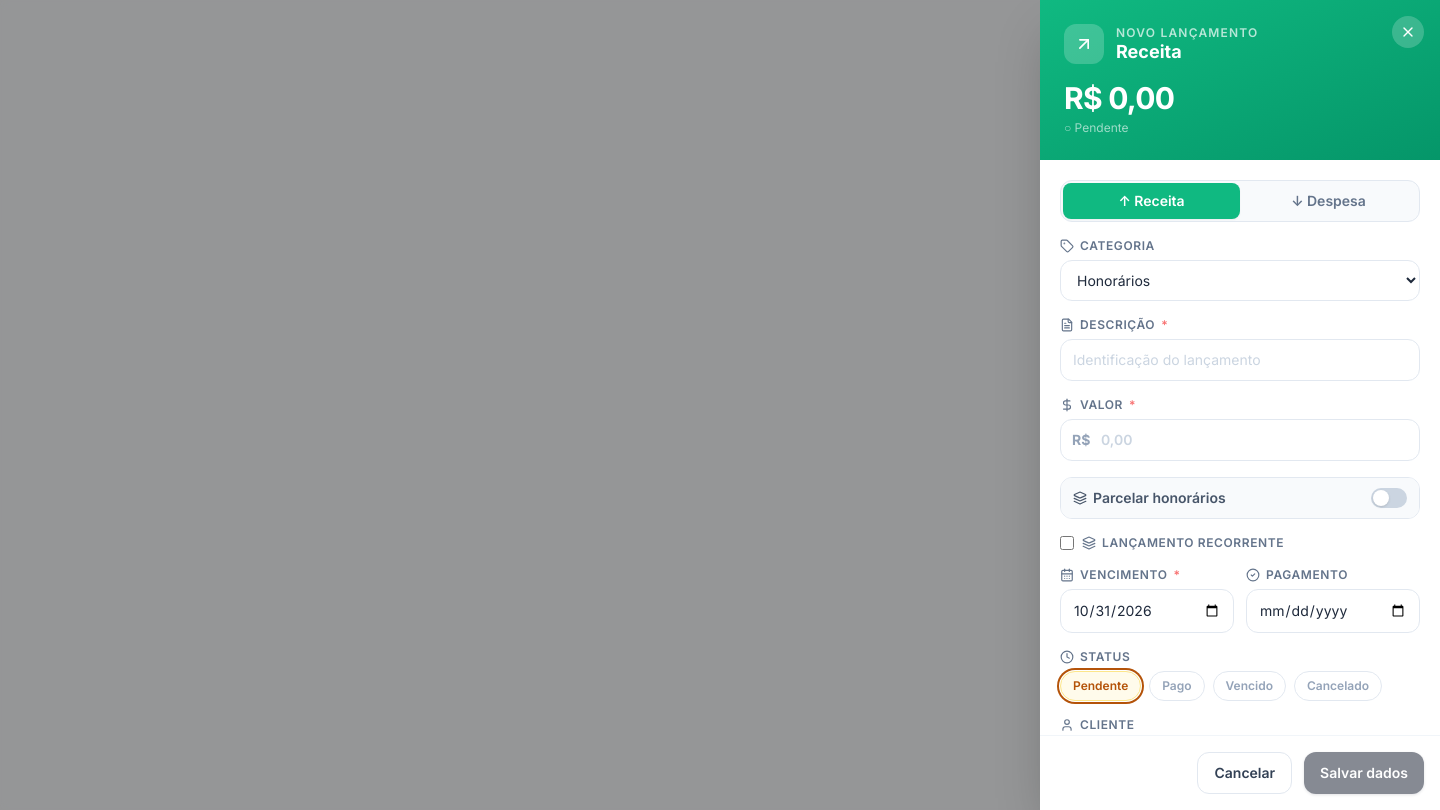
Test: FinancialDrawer — recorrência x parcelamento › ao ativar recorrência numa receita, parcelamento continua visível mas fica desabilitado
Step 1. Click the checkbox with test id "field-recurring" → click(1067, 543), box [1060, 536, 1074, 550]
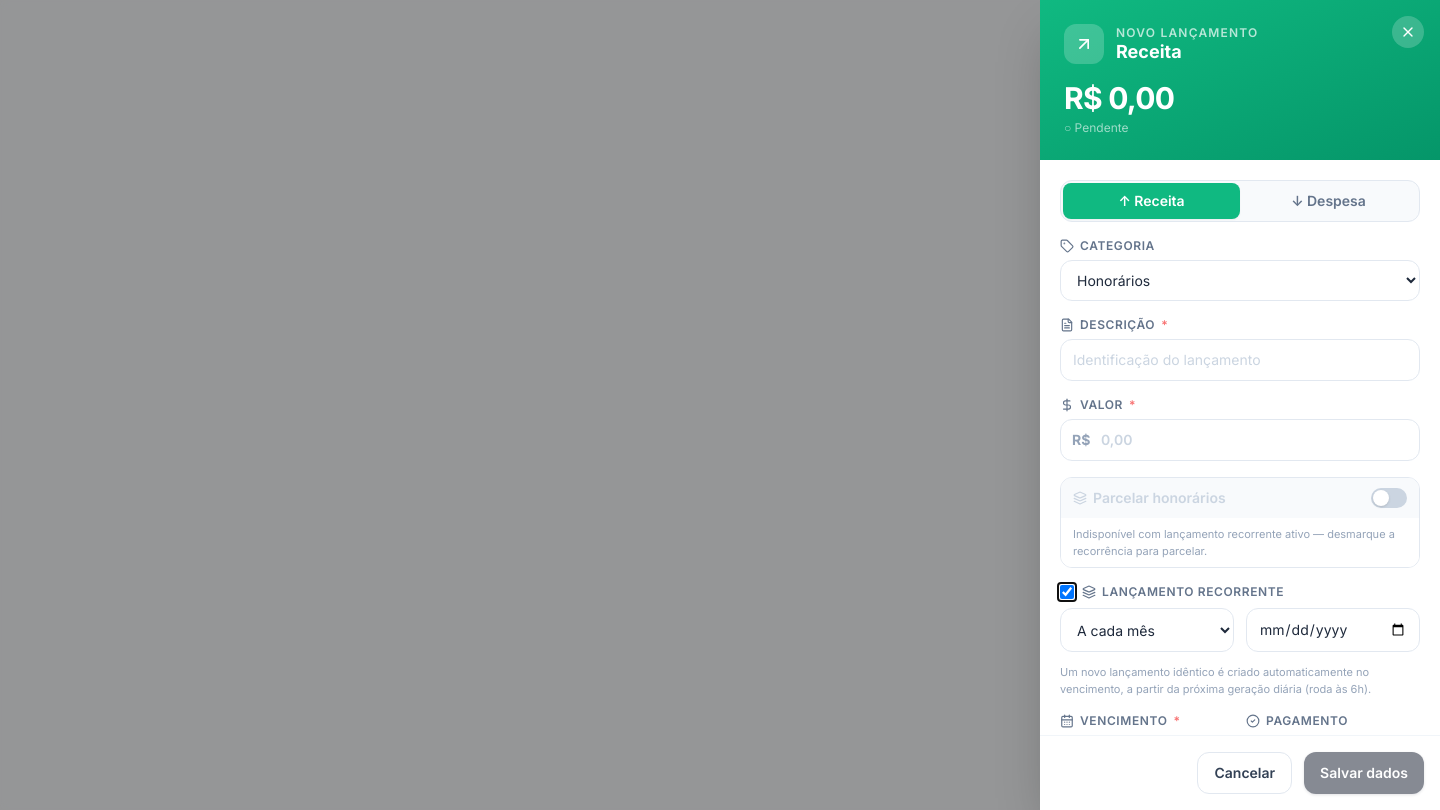
Check: the button with test id "toggle-installment-plan" is disabled, box [1061, 478, 1419, 518]
Check: the text with test id "installment-disabled-note" is shown, box [1061, 518, 1419, 567]
